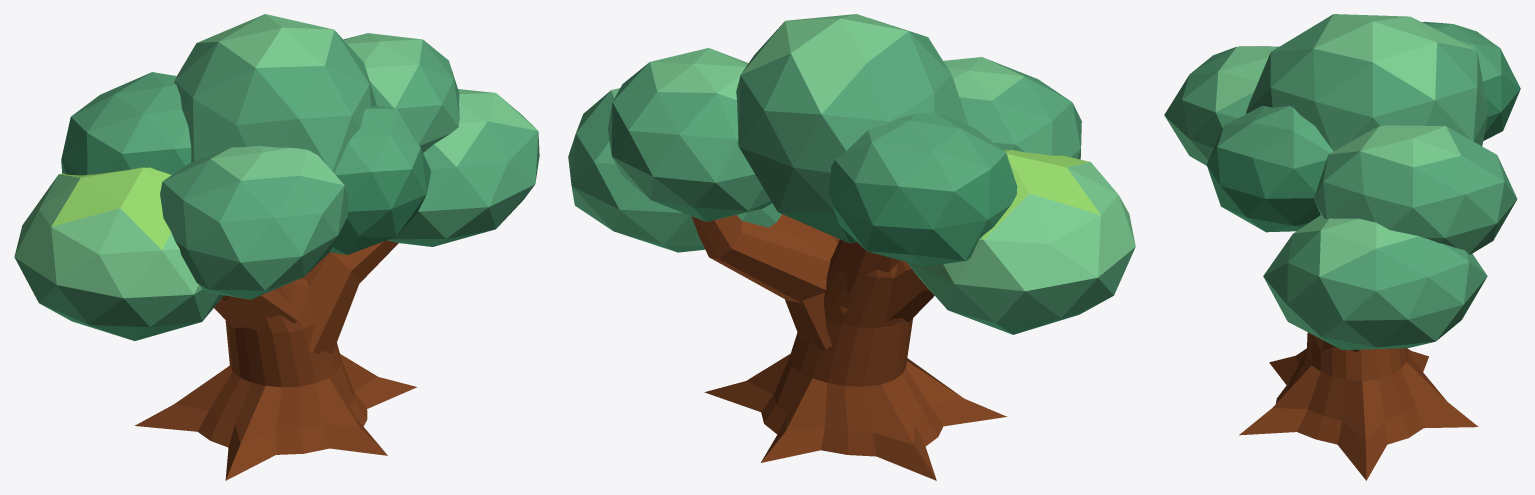
File: Oak.glb
3 renders of one model, left to right at view 1: azimuth 30°, elevation 25°; view 2: azimuth 150°, elevation 25°; view 3: azimuth 270°, elevation 25°, orthographic. The views are drawn at different scales.
Visible parts, largest first — view 1: Oak; view 2: Oak; view 3: Oak.
Part boxes in pixels (left/top/right/bottom): Oak: left=14, top=14, right=539, bottom=480; Oak: left=568, top=14, right=1135, bottom=480; Oak: left=1164, top=14, right=1520, bottom=480.
Size of the model in its own units: 5.26 by 3.92 by 3.21.
1 material, 1 textured.
